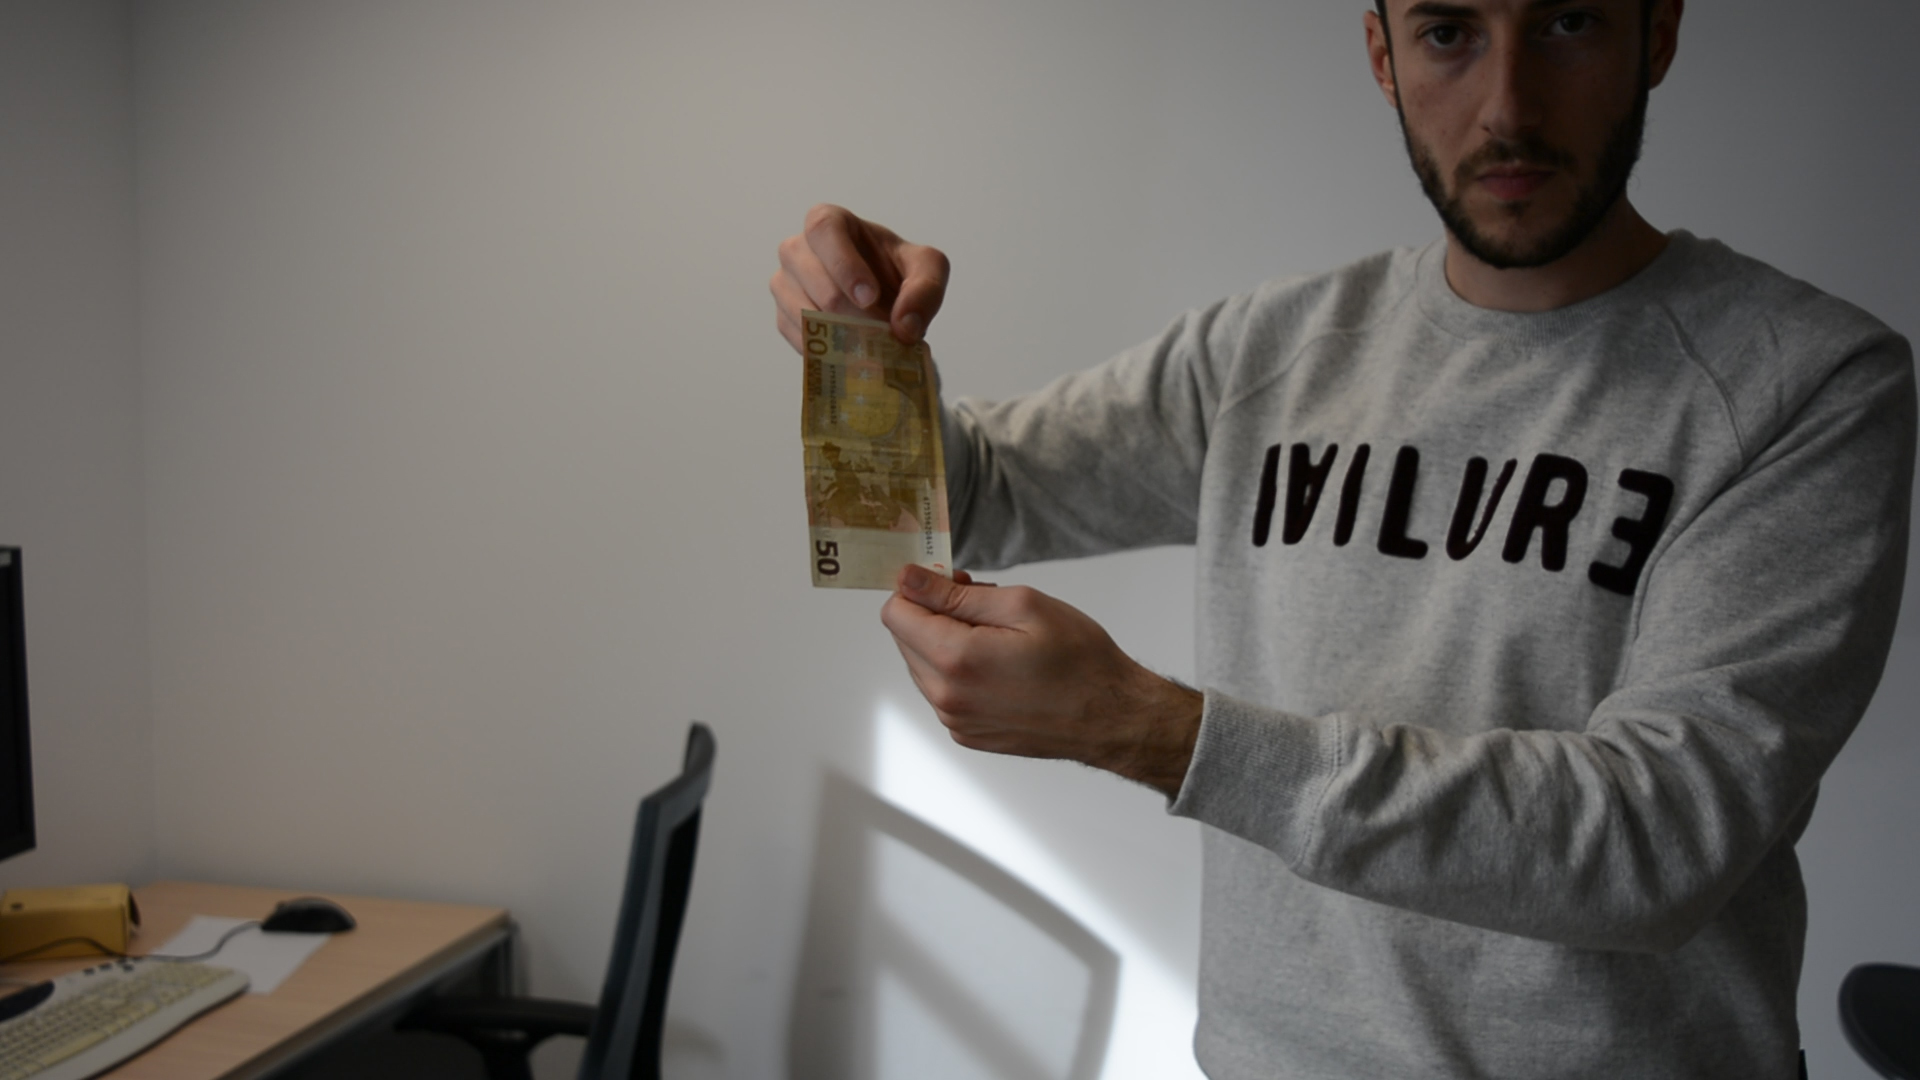billete: (800, 309, 956, 593)
